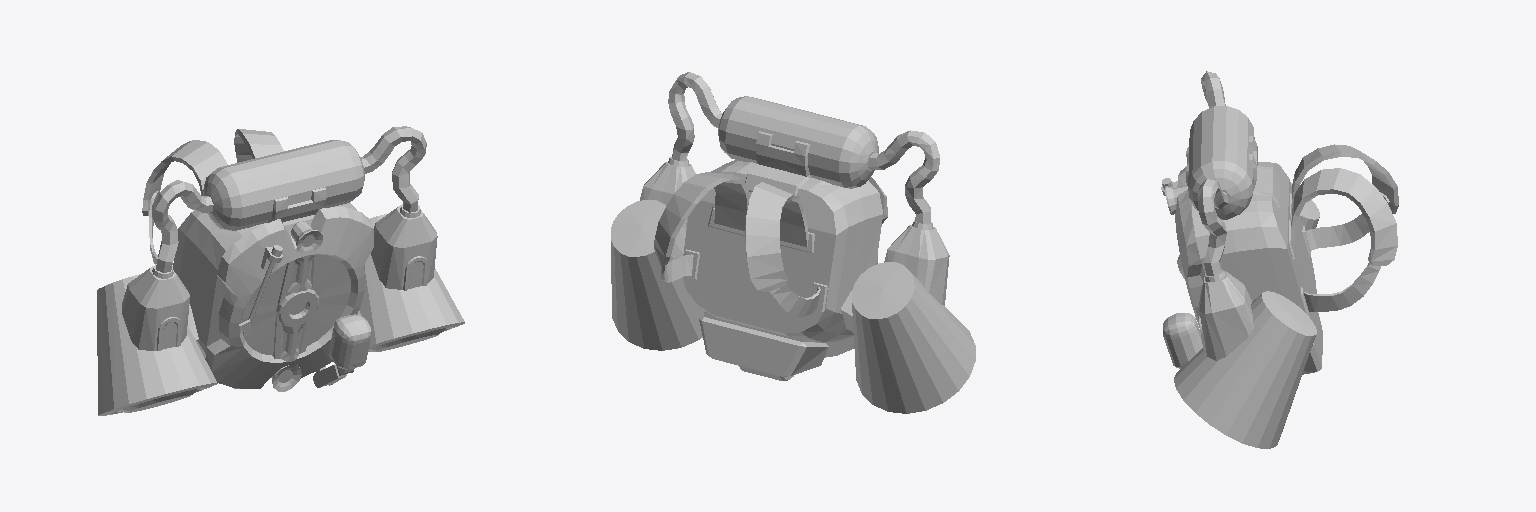
File: backpack lv3.obj
3 renders of one model, left to right at view 1: azimuth 30°, elevation 25°; view 2: azimuth 150°, elevation 25°; view 3: azimuth 270°, elevation 25°, orthographic.
Parts seen in each view (by area): view 1: Preview_Backpack_Fashiontrends_EP_LV3_0; view 2: Preview_Backpack_Fashiontrends_EP_LV3_0; view 3: Preview_Backpack_Fashiontrends_EP_LV3_0.
Part boxes in pixels (left/top/right/bottom): Preview_Backpack_Fashiontrends_EP_LV3_0: left=97, top=126, right=464, bottom=415; Preview_Backpack_Fashiontrends_EP_LV3_0: left=611, top=72, right=975, bottom=413; Preview_Backpack_Fashiontrends_EP_LV3_0: left=1161, top=71, right=1398, bottom=448.
Size of the model in its own units: 1.59 by 1.09 by 0.9237.